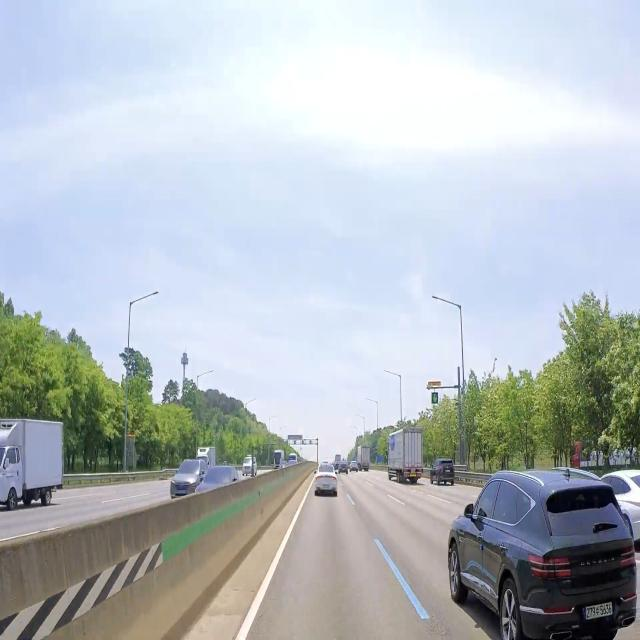car: (583, 600, 617, 621), (175, 489, 186, 495), (409, 467, 417, 475), (322, 484, 330, 490), (445, 468, 451, 474), (342, 468, 346, 471)
